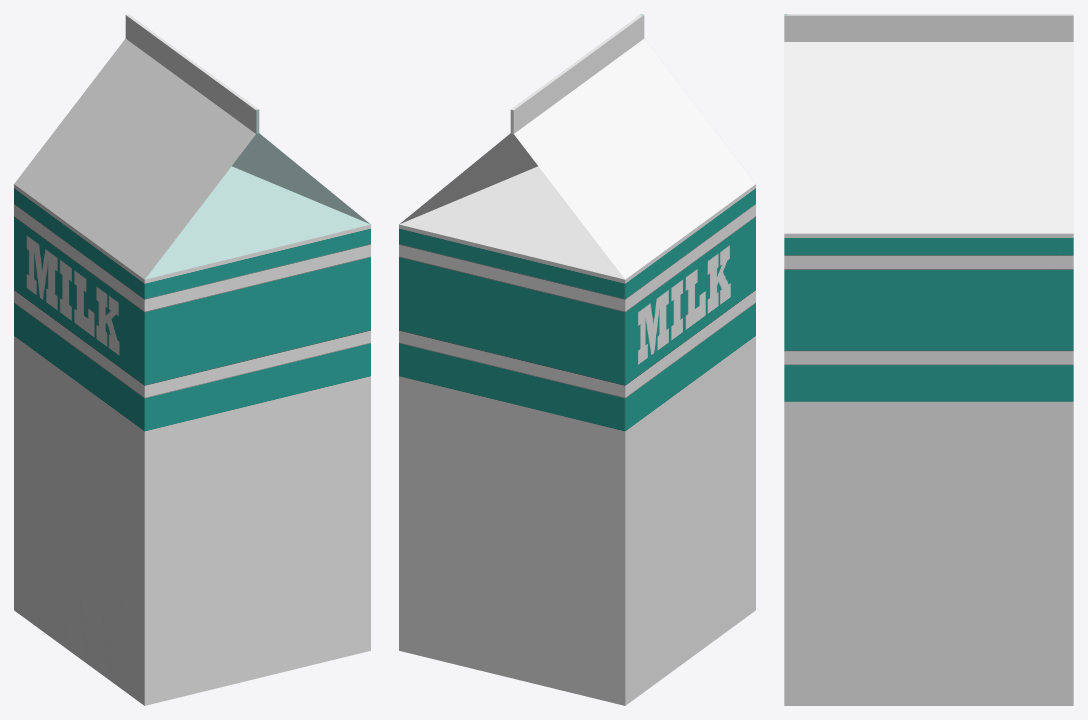
File: Milk.fbx
The picture shows the model from 3 angles, left to right: view 1: azimuth 30°, elevation 25°; view 2: azimuth 150°, elevation 25°; view 3: azimuth 270°, elevation 25°; orthographic projection. The views are drawn at different scales.
Parts seen in each view (by area): view 1: Milk; view 2: Milk; view 3: Milk.
Boxes of the visible parts, <box> form: Milk: <box>14,14,370,705</box>; Milk: <box>399,14,755,705</box>; Milk: <box>784,14,1073,705</box>.
Bounding box in the file's own units: 10 × 24 × 10.
Materials: 1 (1 with a texture image).
